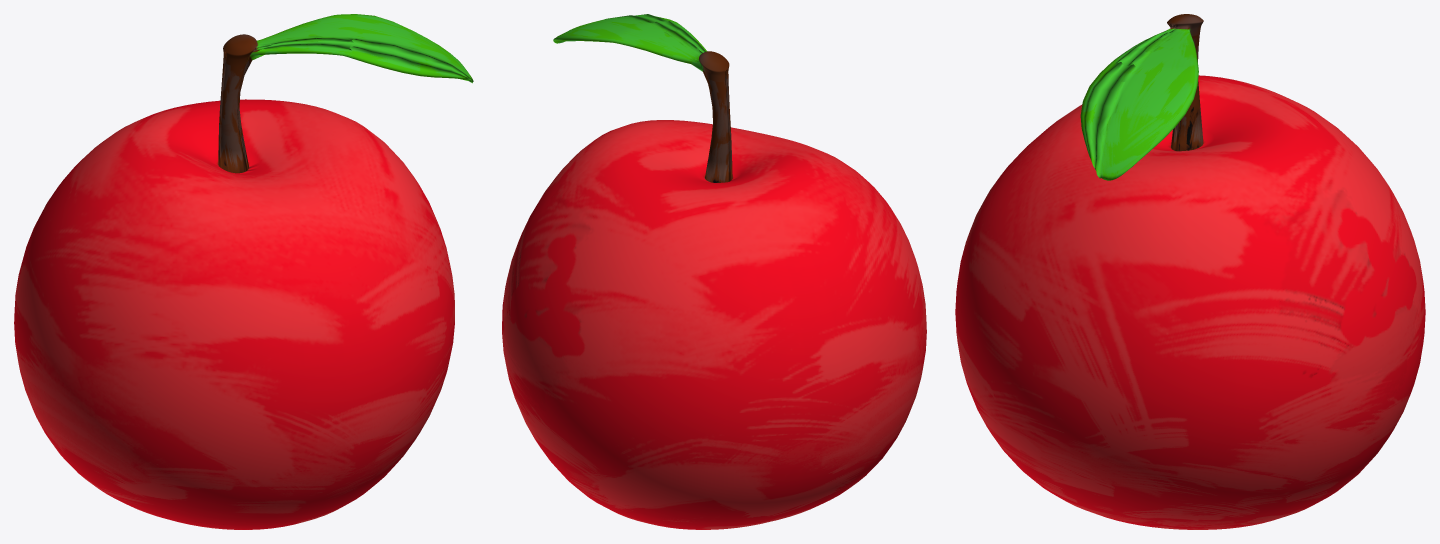
Rendered from apple.fbx.
3 views of the same model, side by side, from view 1: azimuth 30°, elevation 25°; view 2: azimuth 150°, elevation 25°; view 3: azimuth 270°, elevation 25° (orthographic). The views are drawn at different scales.
Parts seen in each view (by area): view 1: apple; view 2: apple; view 3: apple.
Boxes of the visible parts, bbox=[...] form: apple: bbox=[14, 14, 473, 529]; apple: bbox=[502, 14, 926, 529]; apple: bbox=[955, 14, 1425, 529].
Size of the model in its own units: 47.2 by 53.14 by 46.46.
1 material, 1 textured.
